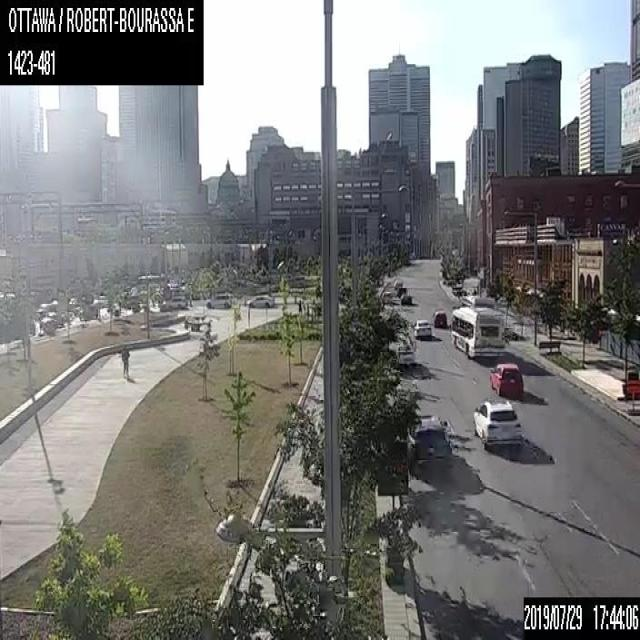bus: (451, 304, 506, 357)
construction: (624, 373, 639, 395)
pedestrian: (120, 345, 129, 383)
vehicle: (472, 397, 524, 448), (408, 425, 451, 471), (489, 361, 523, 395), (246, 293, 274, 308), (205, 292, 231, 308), (396, 344, 415, 363), (412, 319, 431, 337), (160, 295, 186, 308), (432, 309, 446, 327), (400, 294, 411, 306), (396, 286, 406, 297), (393, 280, 402, 289)
